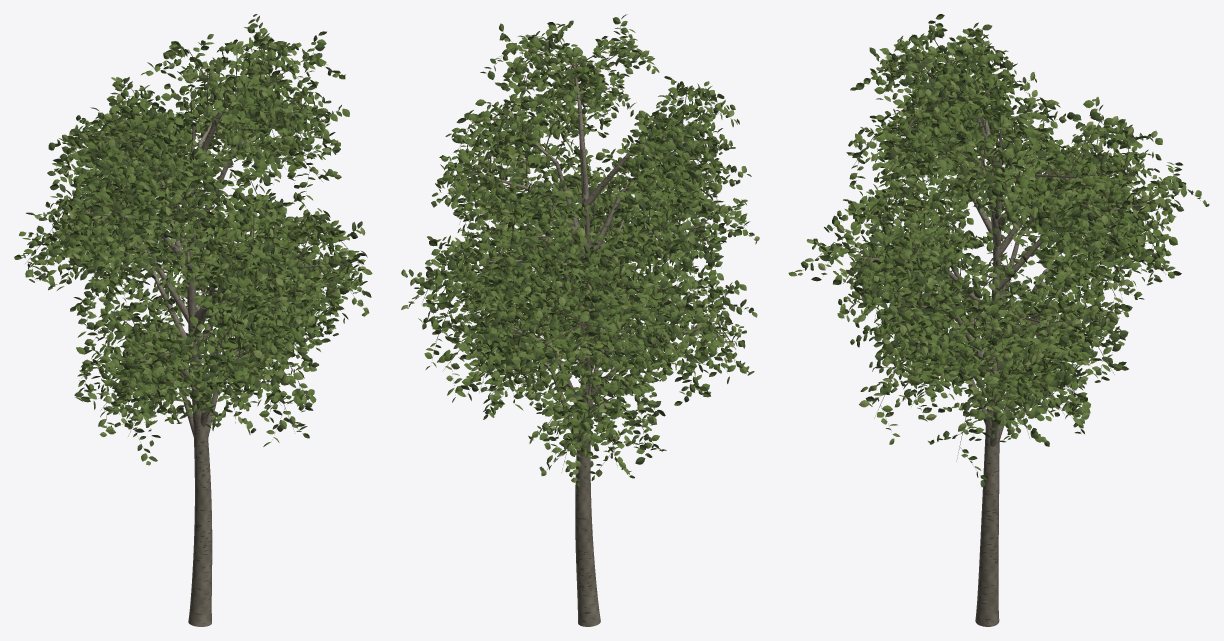
Rendered from verge_birch.glb.
3 views of the same model, side by side, from view 1: azimuth 30°, elevation 25°; view 2: azimuth 150°, elevation 25°; view 3: azimuth 270°, elevation 25° (orthographic). The views are drawn at different scales.
Visible parts, largest first — view 1: VergeBirch; view 2: VergeBirch; view 3: VergeBirch.
Part boxes in pixels (left/top/right/bottom): VergeBirch: left=14, top=14, right=372, bottom=626; VergeBirch: left=401, top=14, right=759, bottom=626; VergeBirch: left=788, top=14, right=1209, bottom=626.
Size of the model in its own units: 5.08 by 8.65 by 5.48.
6 materials, 1 textured.
